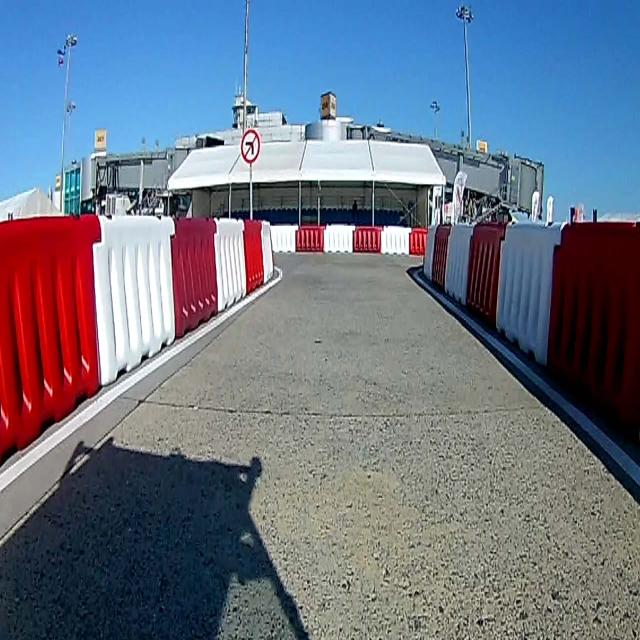soladonulmez: (240, 130, 260, 164)
